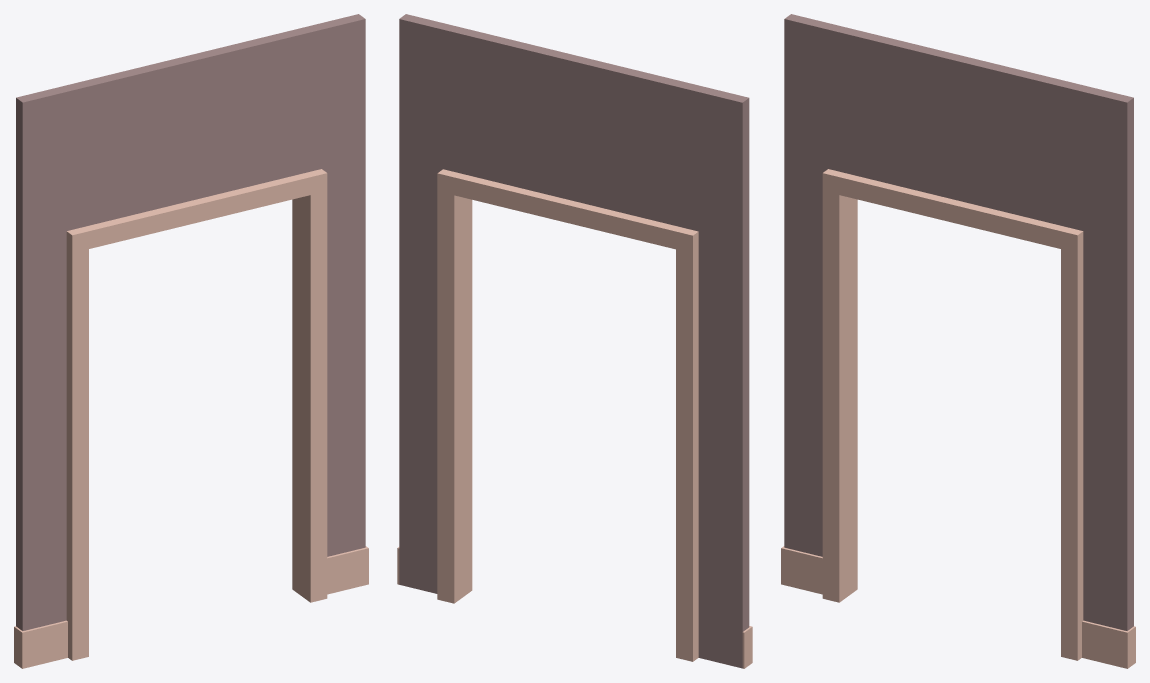
File: SM_Door_Frame_3_01.fbx
3 renders of one model, left to right at view 1: azimuth 30°, elevation 25°; view 2: azimuth 150°, elevation 25°; view 3: azimuth 330°, elevation 25°, orthographic.
Visible parts, largest first — view 1: SM_Door_Frame_3_01; view 2: SM_Door_Frame_3_01; view 3: SM_Door_Frame_3_01.
Boxes of the visible parts, x1=… form: SM_Door_Frame_3_01: x1=14, y1=14, x2=368, y2=668; SM_Door_Frame_3_01: x1=397, y1=14, x2=752, y2=668; SM_Door_Frame_3_01: x1=781, y1=14, x2=1135, y2=668.
Size of the model in its own units: 190 by 295 by 17.13.
